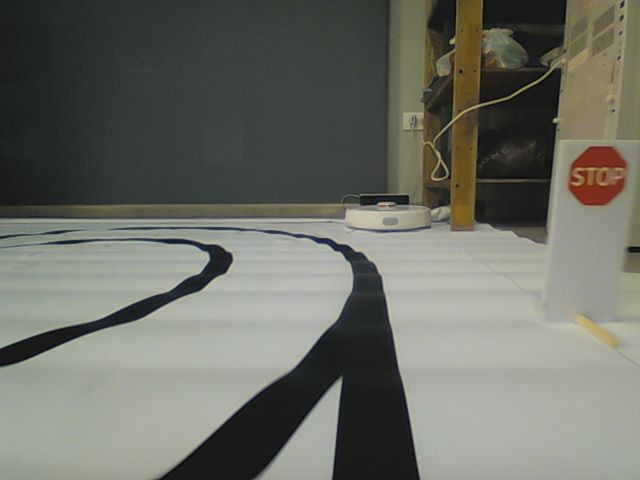Stop: (565, 144, 629, 209)
